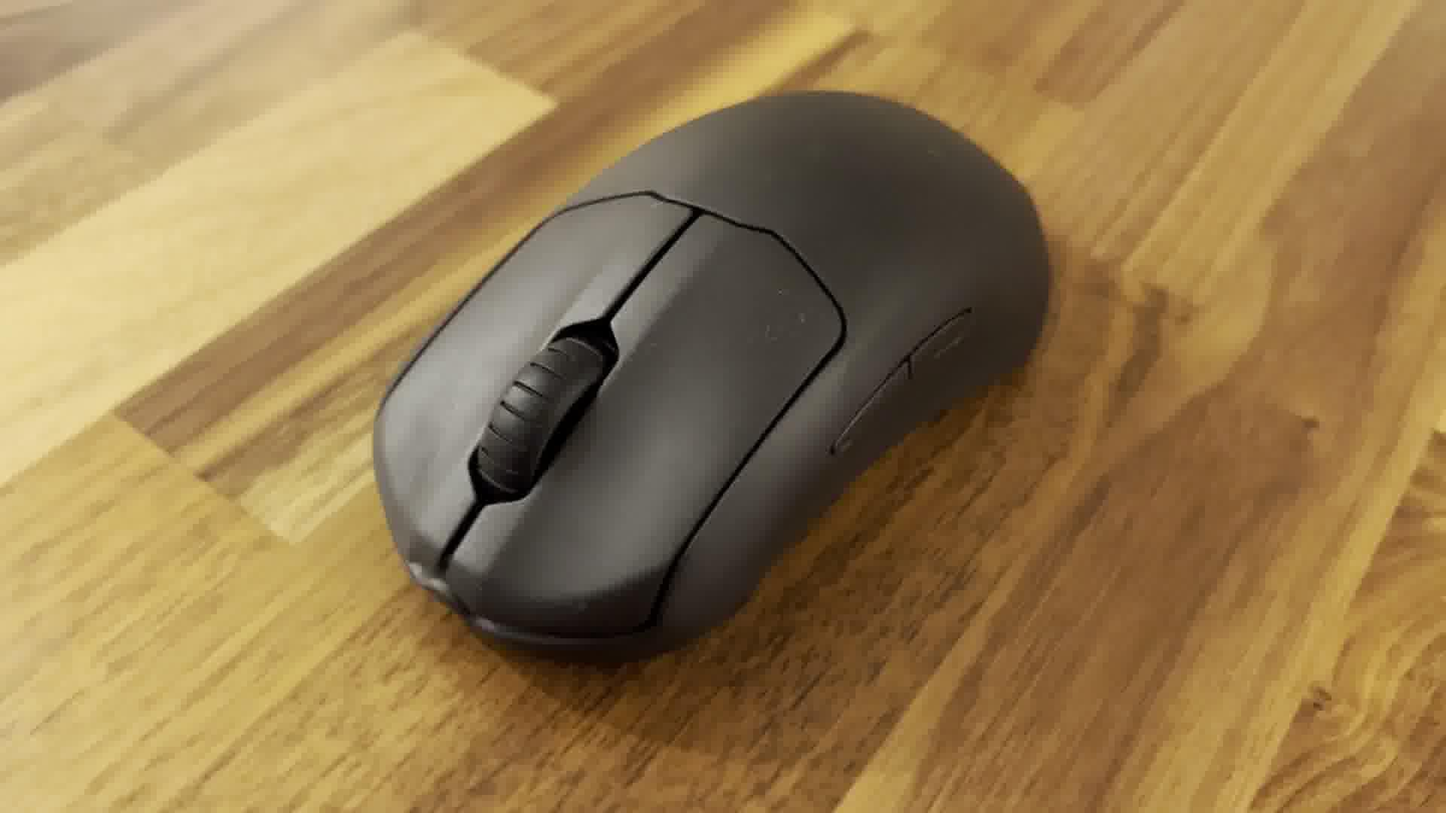steel-series: (368, 83, 1054, 677)
